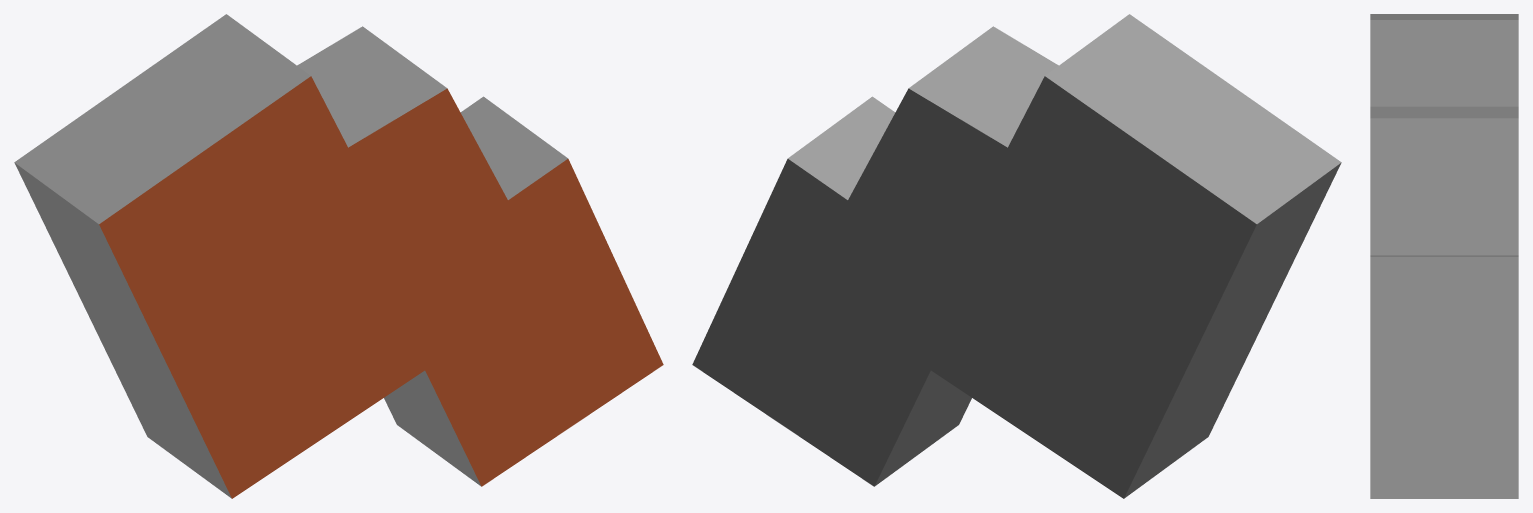
The model's file is construction_6160_assumed_A_Casa_h6m.obj.
3 views of the same model, side by side, from view 1: azimuth 30°, elevation 25°; view 2: azimuth 150°, elevation 25°; view 3: azimuth 270°, elevation 25° (orthographic). The views are drawn at different scales.
Parts seen in each view (by area): view 1: construction_6160_assumed_A_Casa; view 2: construction_6160_assumed_A_Casa; view 3: construction_6160_assumed_A_Casa.
Boxes of the visible parts, bbox=[...] form: construction_6160_assumed_A_Casa: bbox=[14, 14, 663, 498]; construction_6160_assumed_A_Casa: bbox=[692, 14, 1341, 498]; construction_6160_assumed_A_Casa: bbox=[1370, 14, 1518, 498].
Bounding box in the file's own units: 23.08 × 17.67 × 6.
